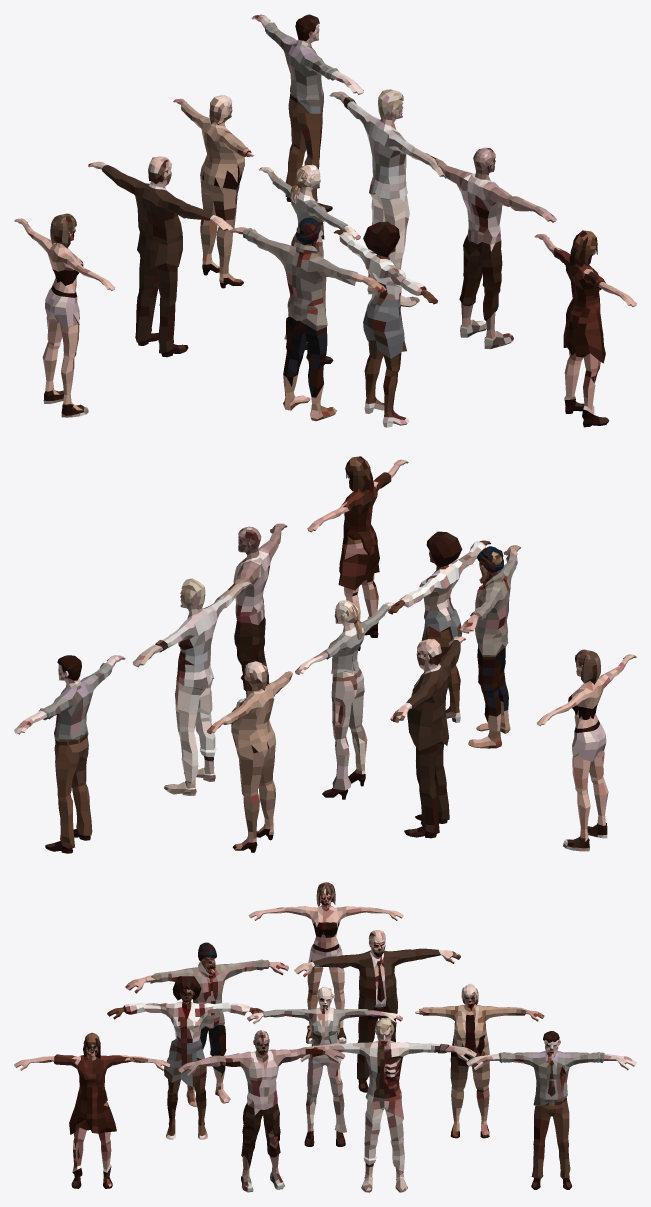
The picture shows the model from 3 angles, top to bottom: view 1: azimuth 30°, elevation 25°; view 2: azimuth 150°, elevation 25°; view 3: azimuth 270°, elevation 25°; orthographic projection. The views are drawn at different scales.
Parts seen in each view (by area): view 1: lpMale_zombie_D, lpMale_zombie_E, lpMale_zombie_C, lpFemale_zombie_E, lpFemale_zombie_A, lpFemale_zombie_D, acc_hair_punkin, lpMale_zombie_B, lpMale_zombie_A, lpFemale_zombie_C; view 2: lpMale_zombie_B, lpMale_zombie_A, lpMale_zombie_D, lpFemale_zombie_D, lpMale_zombie_E, lpFemale_zombie_C, acc_hair_punkin, lpFemale_zombie_A, lpFemale_zombie_E, lpMale_zombie_C; view 3: lpMale_zombie_B, lpMale_zombie_C, lpMale_zombie_A, lpFemale_zombie_E, lpFemale_zombie_A, lpMale_zombie_D, lpFemale_zombie_D, lpFemale_zombie_C, lpMale_zombie_E, acc_hair_punkin.
Boxes of the visible parts, box(x1,y1,x2,y2) form: lpMale_zombie_D: box(88, 156, 232, 357); lpMale_zombie_E: box(230, 217, 386, 421); lpMale_zombie_C: box(412, 147, 556, 349); lpFemale_zombie_E: box(333, 221, 437, 427); lpFemale_zombie_A: box(534, 230, 636, 427); lpFemale_zombie_D: box(173, 95, 253, 288); acc_hair_punkin: box(14, 213, 115, 417); lpMale_zombie_B: box(329, 89, 446, 307); lpMale_zombie_A: box(251, 14, 363, 212); lpFemale_zombie_C: box(258, 164, 360, 363); lpMale_zombie_B: box(132, 578, 252, 795); lpMale_zombie_A: box(14, 655, 125, 853); lpMale_zombie_D: box(390, 636, 465, 838); lpFemale_zombie_D: box(207, 661, 292, 852); lpMale_zombie_E: box(459, 545, 520, 748); lpFemale_zombie_C: box(295, 600, 394, 799); acc_hair_punkin: box(537, 649, 636, 851); lpFemale_zombie_A: box(307, 456, 408, 650); lpFemale_zombie_E: box(388, 531, 490, 722); lpMale_zombie_C: box(214, 523, 287, 724); lpMale_zombie_B: box(300, 1017, 476, 1192); lpMale_zombie_C: box(178, 1030, 345, 1192); lpMale_zombie_A: box(466, 1031, 636, 1189); lpFemale_zombie_E: box(107, 976, 263, 1139); lpFemale_zombie_A: box(14, 1032, 170, 1188); lpMale_zombie_D: box(294, 930, 460, 1092); lpFemale_zombie_D: box(415, 983, 544, 1138); lpFemale_zombie_C: box(247, 987, 402, 1146); lpMale_zombie_E: box(125, 942, 288, 1106); acc_hair_punkin: box(248, 882, 403, 1043).
Bounding box in the file's own units: 38825 × 18643 × 61642.
